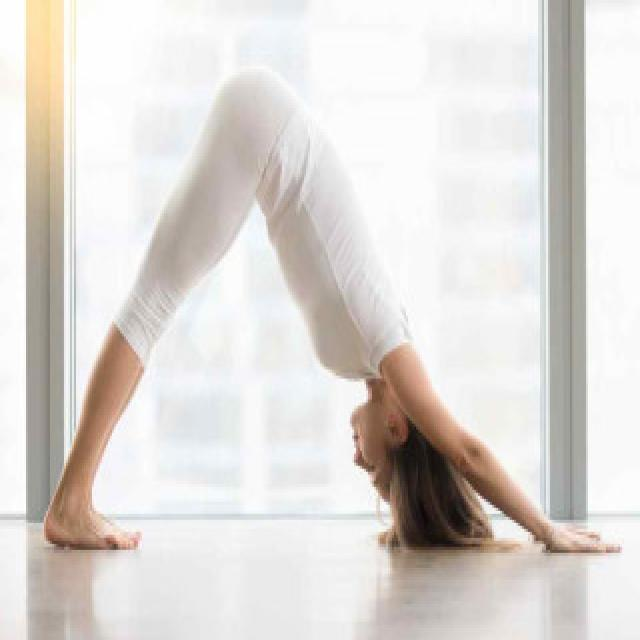yoga-pose downward: (38, 58, 601, 566)
